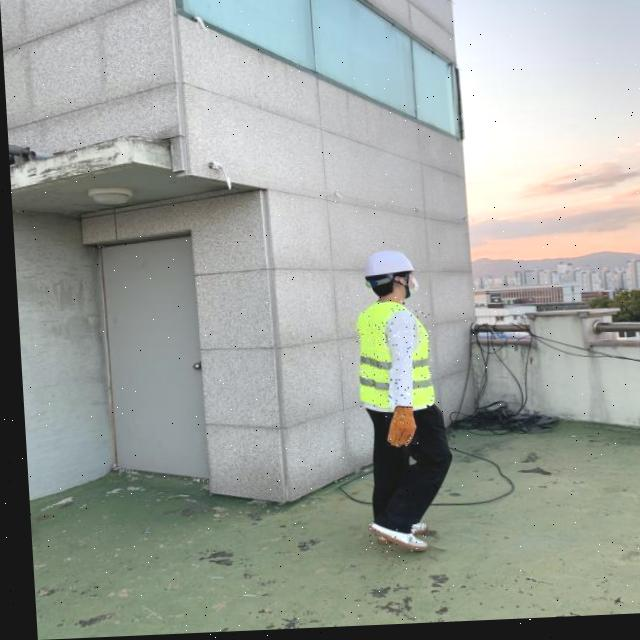Gloves: (380, 408, 413, 451)
Helmet: (360, 253, 412, 282)
Safety-Boot: (362, 522, 422, 556)
Safety-Vest: (350, 303, 431, 416)
